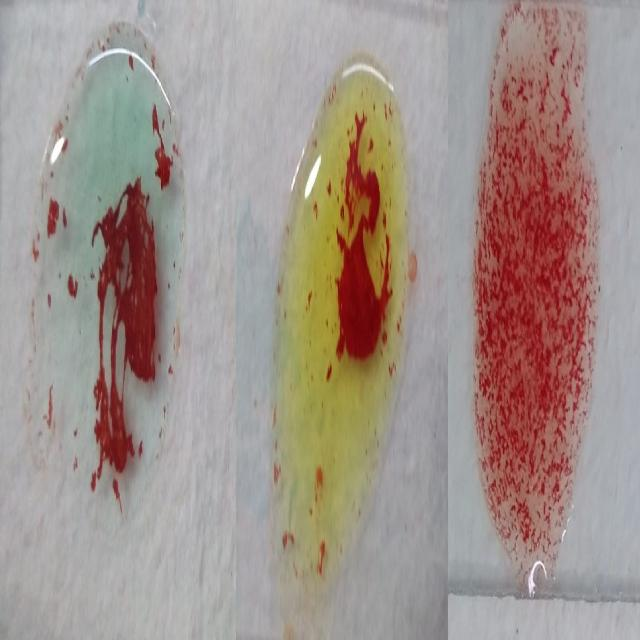A: (37, 32, 180, 538)
B: (276, 51, 404, 570)
D: (476, 19, 598, 580)
